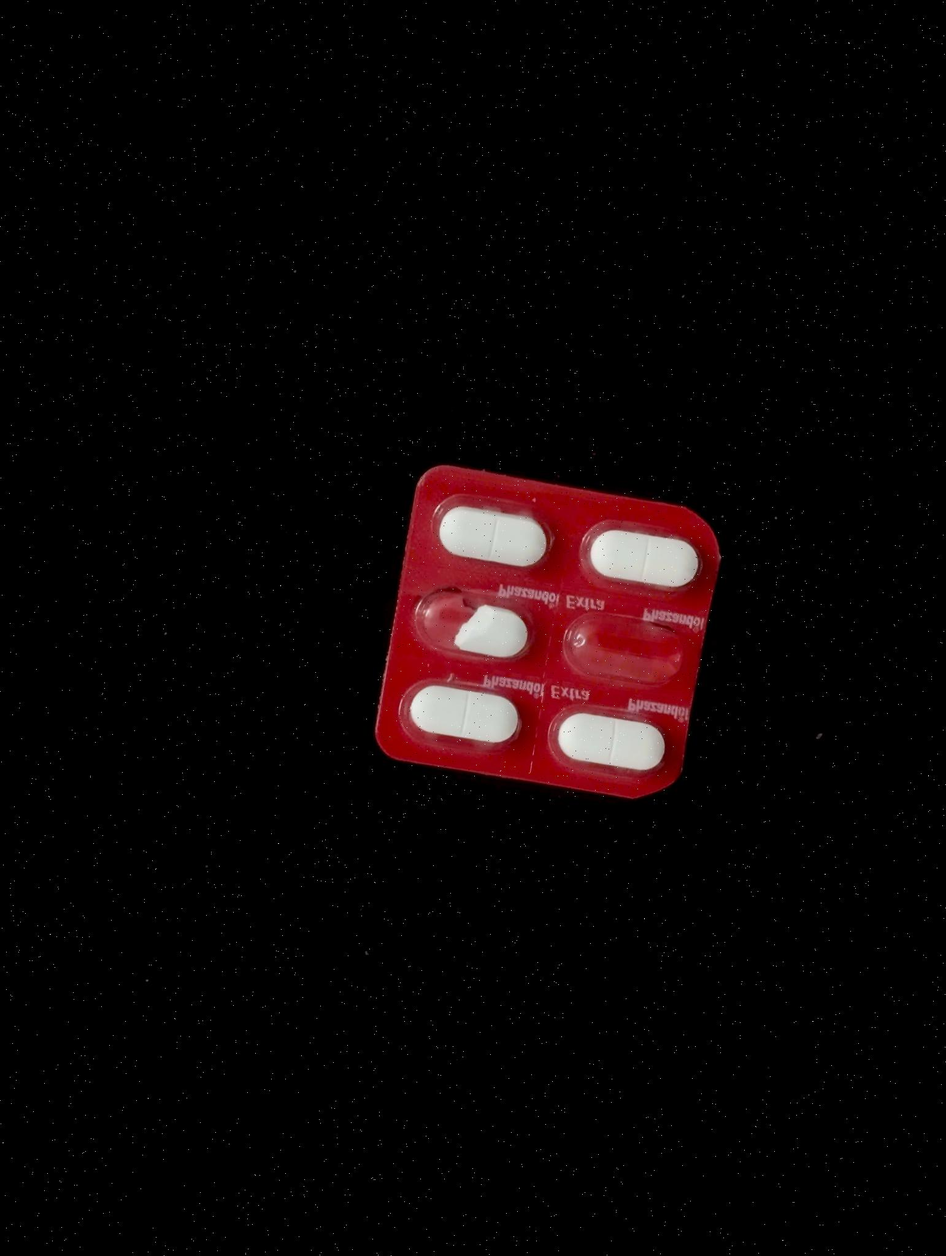Empty: (554, 611, 693, 693)
Full: (545, 694, 674, 787), (577, 515, 707, 603), (425, 494, 559, 577), (397, 673, 525, 754)
Partial: (415, 590, 541, 672)
